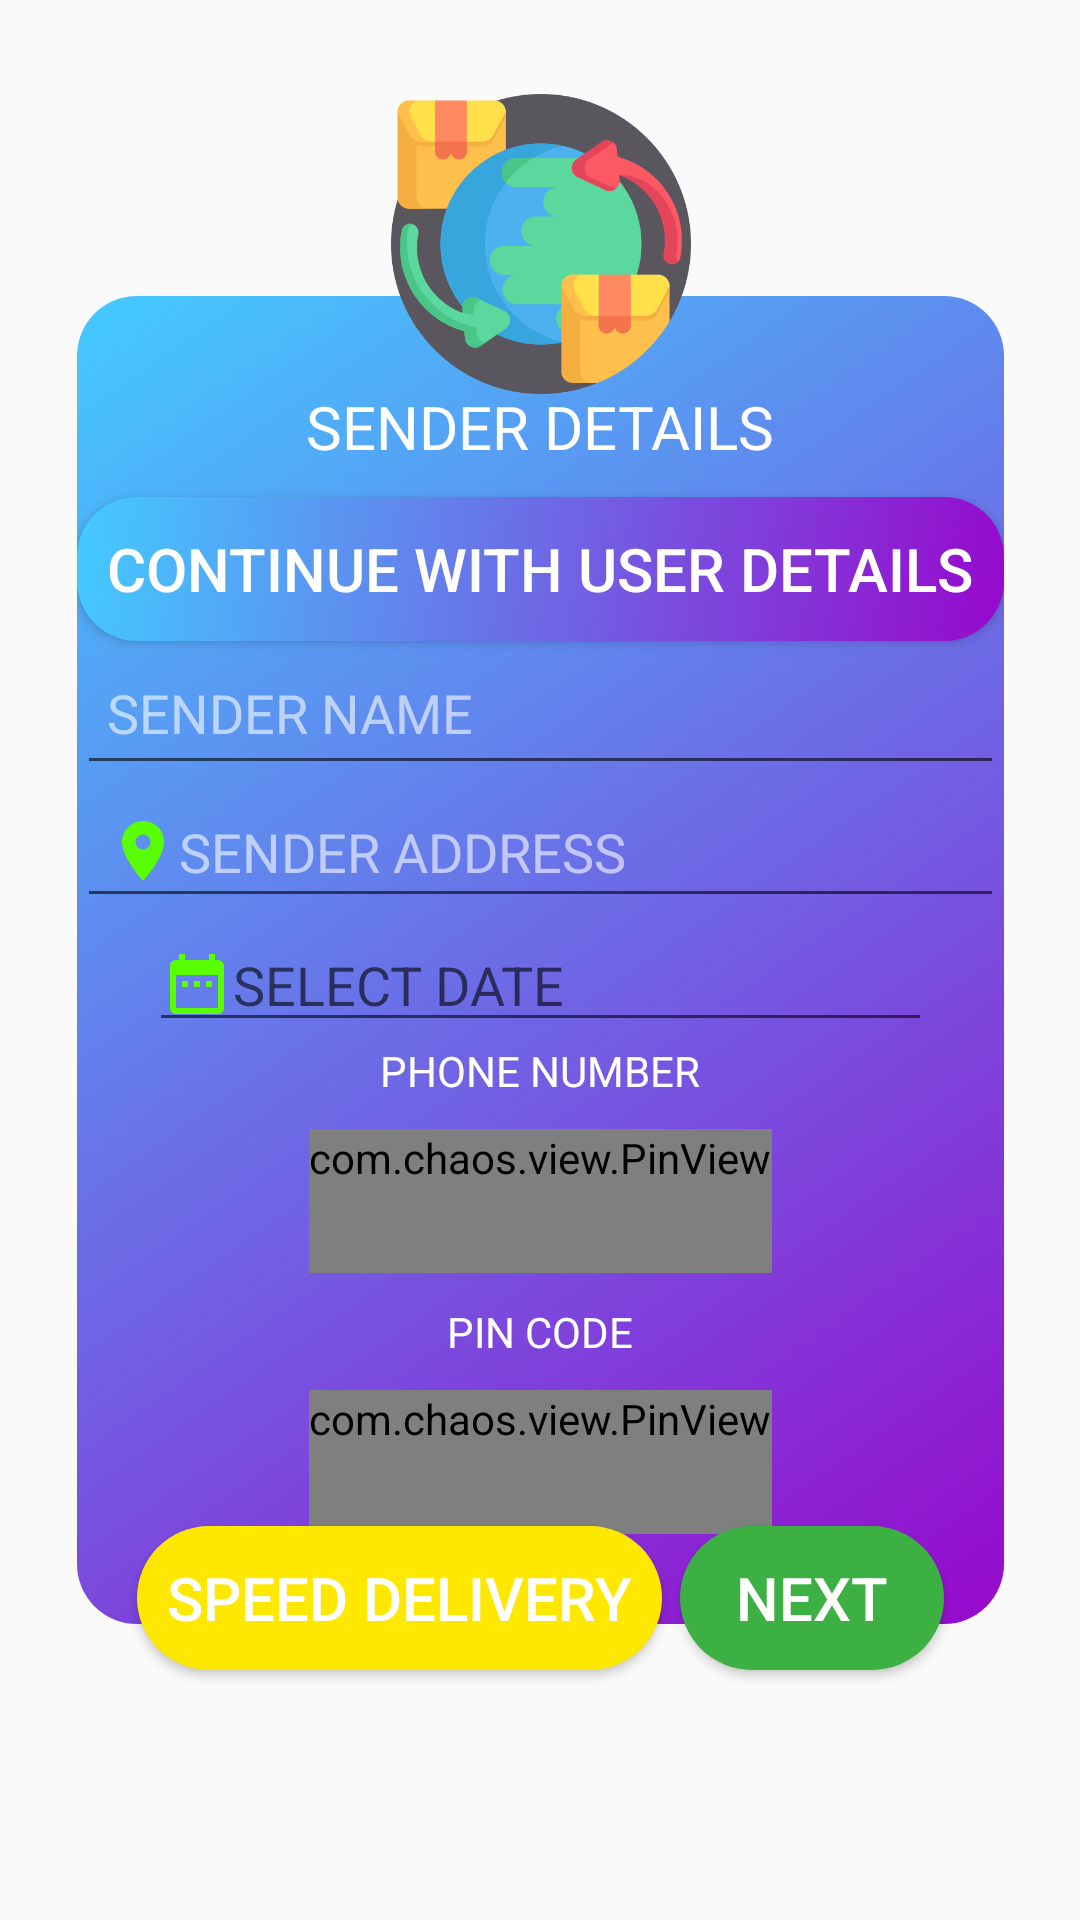

Icons on this 1080 x 1920 Android screen, each with the point to tap as [x,y]:
shipping: [541,244]
